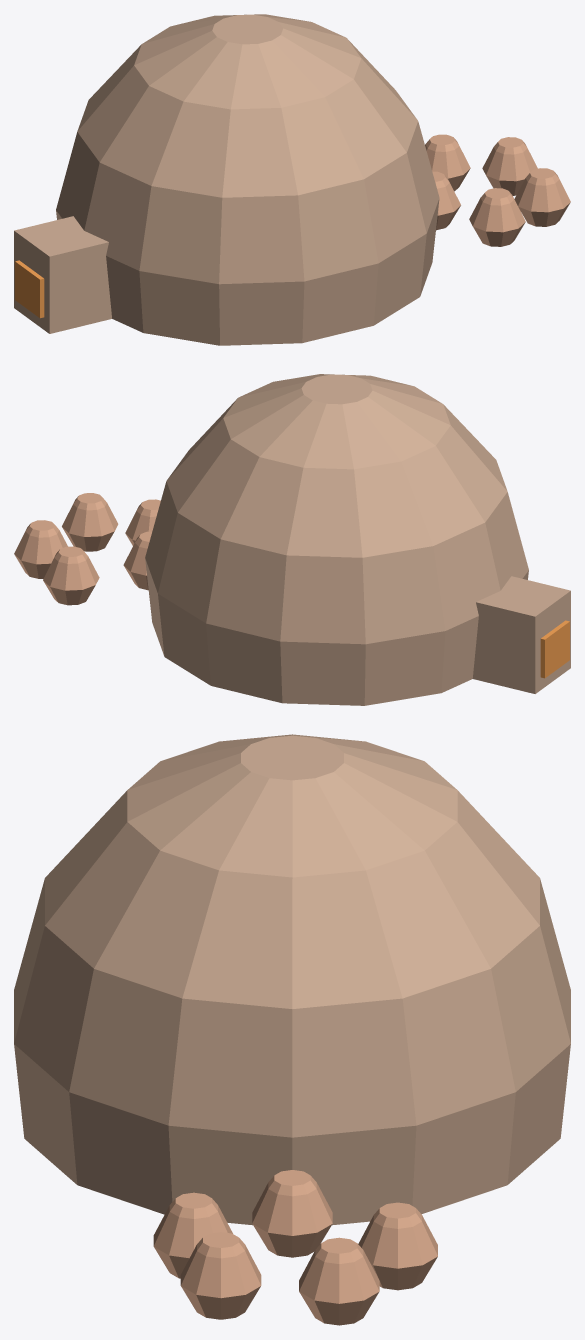
File: kiln.glb
3 renders of one model, top to bottom at view 1: azimuth 30°, elevation 25°; view 2: azimuth 150°, elevation 25°; view 3: azimuth 270°, elevation 25°, orthographic. The views are drawn at different scales.
Parts seen in each view (by area): view 1: kiln, kiln_pots, kiln_fire; view 2: kiln, kiln_pots, kiln_fire; view 3: kiln, kiln_pots.
Boxes of the visible parts, bbox=[...] form: kiln: bbox=[14, 14, 439, 345]; kiln_pots: bbox=[425, 134, 570, 246]; kiln_fire: bbox=[15, 260, 44, 318]; kiln: bbox=[145, 374, 570, 705]; kiln_pots: bbox=[14, 493, 160, 605]; kiln_fire: bbox=[540, 620, 569, 678]; kiln: bbox=[14, 734, 570, 1225]; kiln_pots: bbox=[153, 1170, 437, 1325].
Size of the model in its own units: 4.24 by 1.85 by 2.63.
